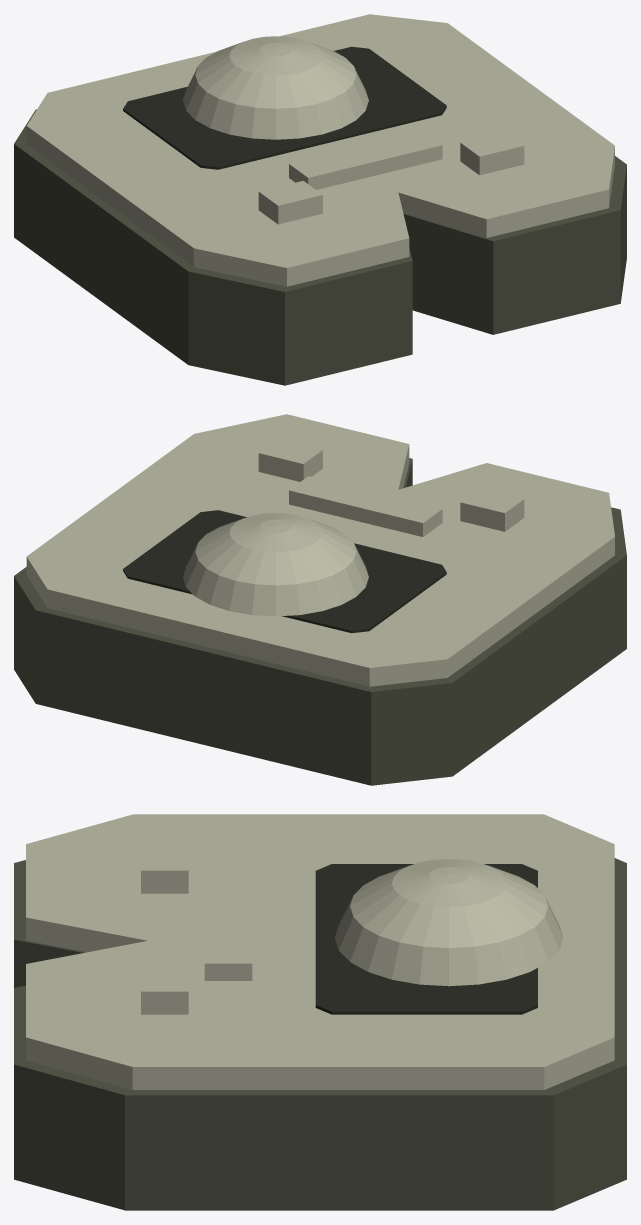
File: vge_mech_aux_processor_c.obj
3 views of the same model, one above another, from view 1: azimuth 30°, elevation 25°; view 2: azimuth 150°, elevation 25°; view 3: azimuth 270°, elevation 25° (orthographic). The views are drawn at different scales.
Parts seen in each view (by area): view 1: vge_mech_aux_processor_c_1, vge_mech_aux_processor_c_0, vge_mech_aux_processor_c_6, vge_mech_aux_processor_c_5, vge_mech_aux_processor_c_2, vge_mech_aux_processor_c_4, vge_mech_aux_processor_c_3; view 2: vge_mech_aux_processor_c_1, vge_mech_aux_processor_c_0, vge_mech_aux_processor_c_6, vge_mech_aux_processor_c_5, vge_mech_aux_processor_c_2, vge_mech_aux_processor_c_3, vge_mech_aux_processor_c_4; view 3: vge_mech_aux_processor_c_1, vge_mech_aux_processor_c_0, vge_mech_aux_processor_c_6, vge_mech_aux_processor_c_5, vge_mech_aux_processor_c_2, vge_mech_aux_processor_c_4, vge_mech_aux_processor_c_3.
Part boxes in pixels (<box>): vge_mech_aux_processor_c_1: <box>26,14,614,286</box>; vge_mech_aux_processor_c_0: <box>14,109,626,385</box>; vge_mech_aux_processor_c_6: <box>183,36,368,139</box>; vge_mech_aux_processor_c_5: <box>123,46,446,169</box>; vge_mech_aux_processor_c_2: <box>289,131,442,189</box>; vge_mech_aux_processor_c_4: <box>460,131,524,175</box>; vge_mech_aux_processor_c_3: <box>258,181,322,224</box>; vge_mech_aux_processor_c_1: <box>26,414,614,686</box>; vge_mech_aux_processor_c_0: <box>14,458,626,785</box>; vge_mech_aux_processor_c_6: <box>183,513,368,616</box>; vge_mech_aux_processor_c_5: <box>123,510,446,633</box>; vge_mech_aux_processor_c_2: <box>289,476,442,536</box>; vge_mech_aux_processor_c_3: <box>460,488,524,531</box>; vge_mech_aux_processor_c_4: <box>258,439,322,481</box>; vge_mech_aux_processor_c_1: <box>26,814,614,1089</box>; vge_mech_aux_processor_c_0: <box>14,858,626,1210</box>; vge_mech_aux_processor_c_6: <box>335,859,563,986</box>; vge_mech_aux_processor_c_5: <box>315,864,537,1014</box>; vge_mech_aux_processor_c_2: <box>204,883,252,980</box>; vge_mech_aux_processor_c_4: <box>141,964,188,1014</box>; vge_mech_aux_processor_c_3: <box>141,844,188,893</box>.
Size of the model in its own units: 1.96 by 0.71 by 1.93.
